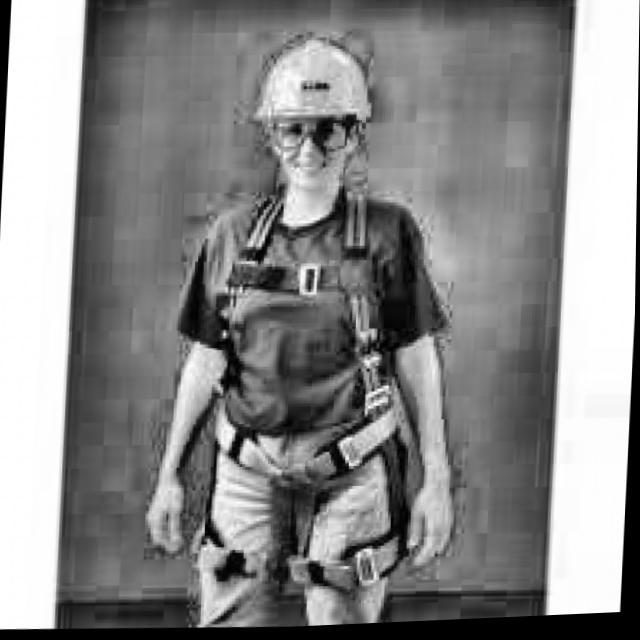belt: (194, 190, 433, 602)
